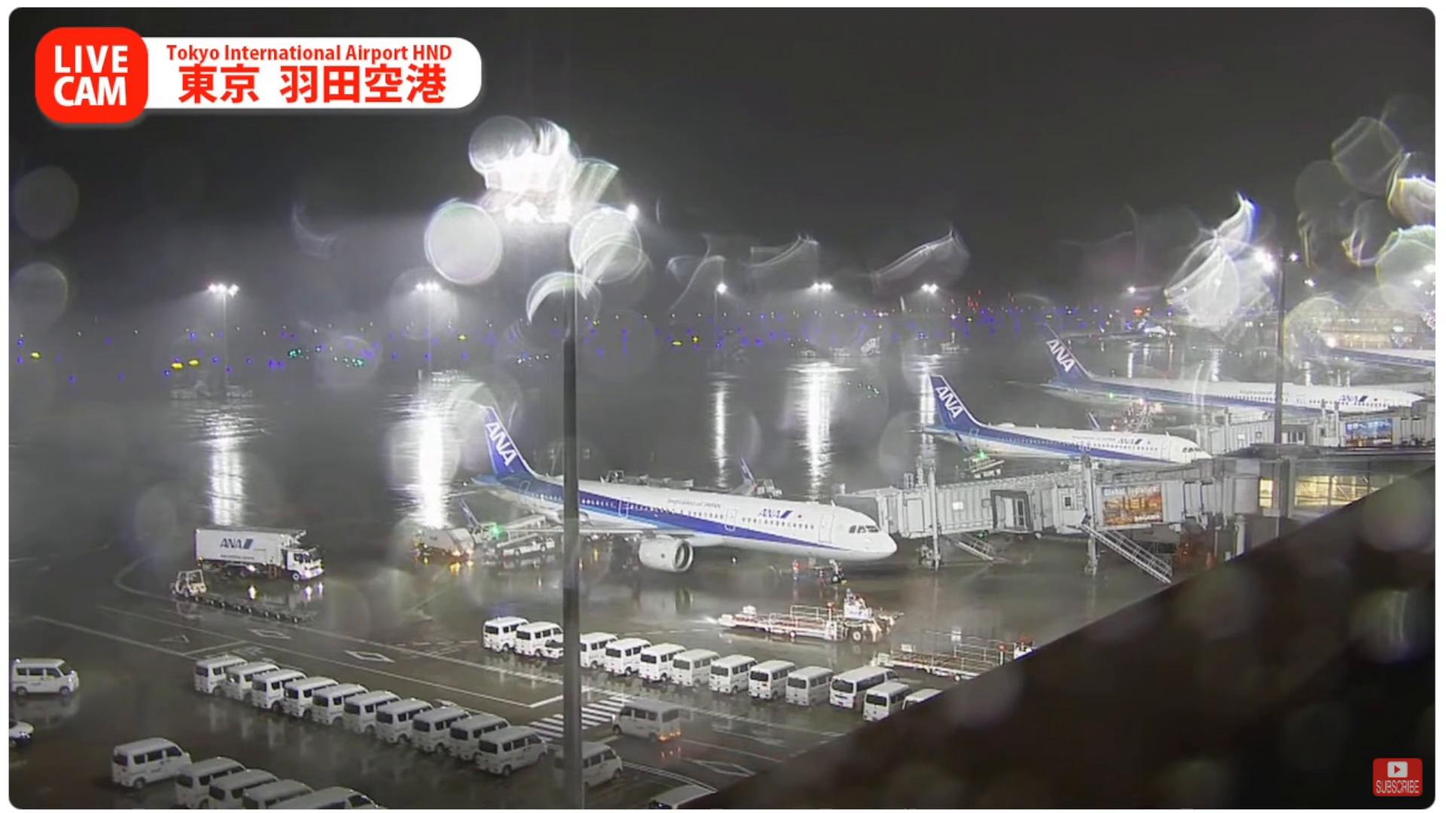Aerobridge: (839, 461, 1195, 539), (988, 472, 1227, 537)
Airplane: (461, 406, 899, 585)
Baggage truck: (412, 525, 478, 560)
Catering: (193, 523, 325, 582)
Dolly: (189, 591, 322, 625), (616, 475, 738, 492)
JCPL: (710, 586, 908, 644), (874, 647, 1012, 682), (913, 631, 1059, 660)
Skyloader: (485, 522, 567, 559)
Tractor: (168, 568, 208, 600), (753, 480, 779, 497)
Window: (1291, 475, 1415, 508)
